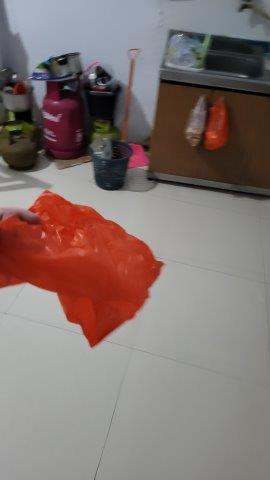plastik: (1, 190, 167, 345), (206, 98, 228, 153), (189, 99, 205, 143)
